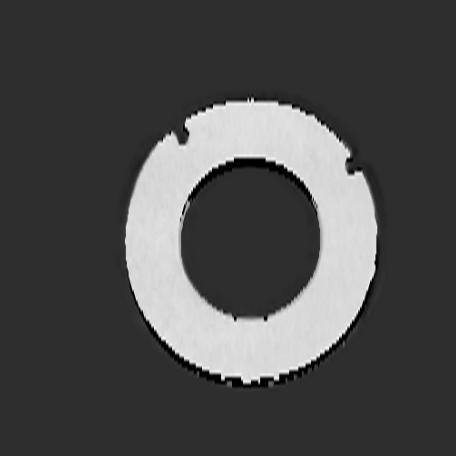defect: (172, 122, 191, 146), (344, 157, 362, 177)
